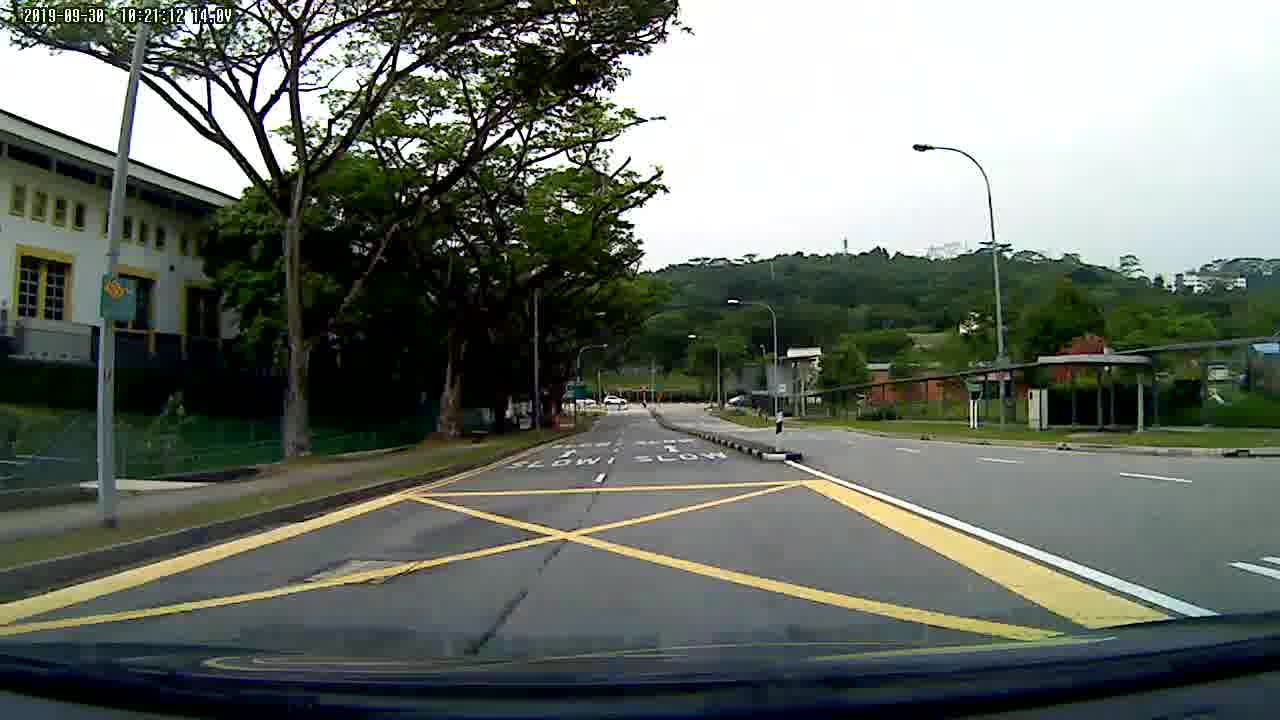car: (603, 392, 625, 407)
